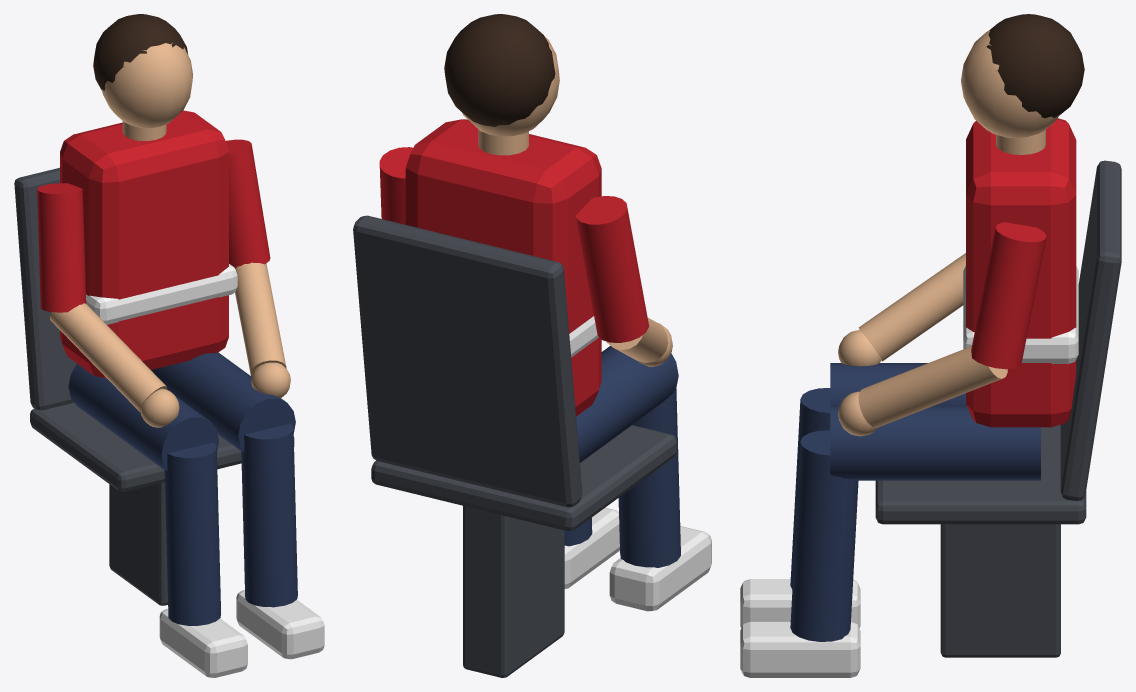
Rendered from aficionado_local.obj.
3 renders of one model, left to right at view 1: azimuth 30°, elevation 25°; view 2: azimuth 150°, elevation 25°; view 3: azimuth 270°, elevation 25°, orthographic. The views are drawn at different scales.
Parts seen in each view (by area): view 1: aficionado_local; view 2: aficionado_local; view 3: aficionado_local.
Part boxes in pixels (x1=…): aficionado_local: x1=14, y1=14, x2=324, y2=677; aficionado_local: x1=353, y1=14, x2=711, y2=677; aficionado_local: x1=740, y1=14, x2=1121, y2=677.
Size of the model in its own units: 0.5837 by 1.39 by 0.7609.
1 material, 1 textured.
